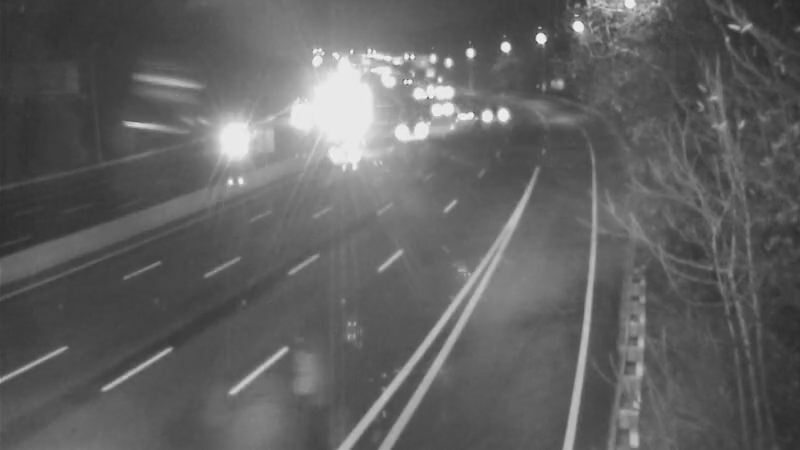vehicle: (314, 111, 394, 191), (415, 83, 465, 133), (474, 82, 524, 132), (381, 109, 431, 159), (201, 116, 251, 166)
